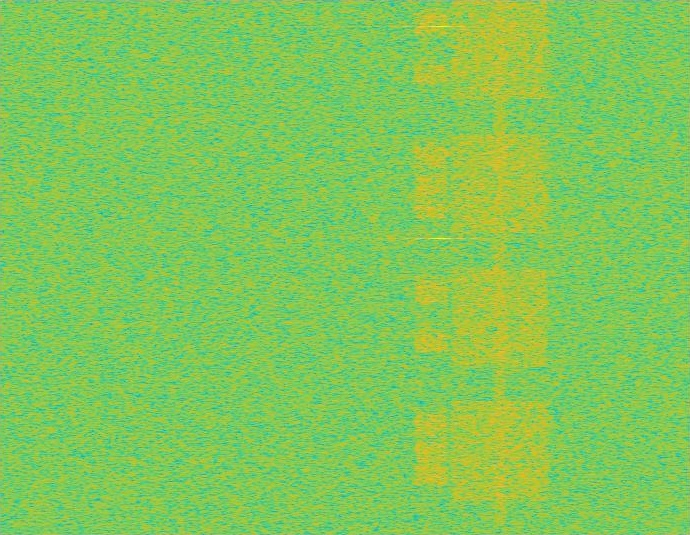5G: (449, 0, 552, 534)
DSSS: (493, 0, 507, 534)
LTE: (414, 0, 449, 534)
Radar: (433, 0, 447, 534)
